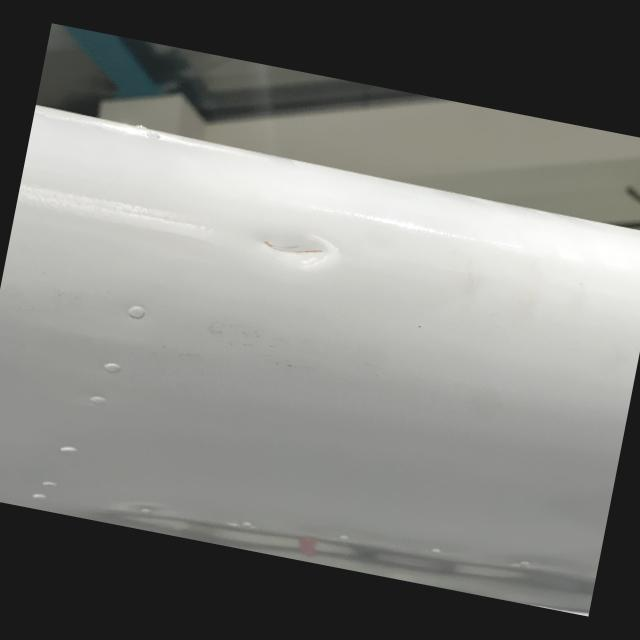dent: (234, 210, 359, 282)
